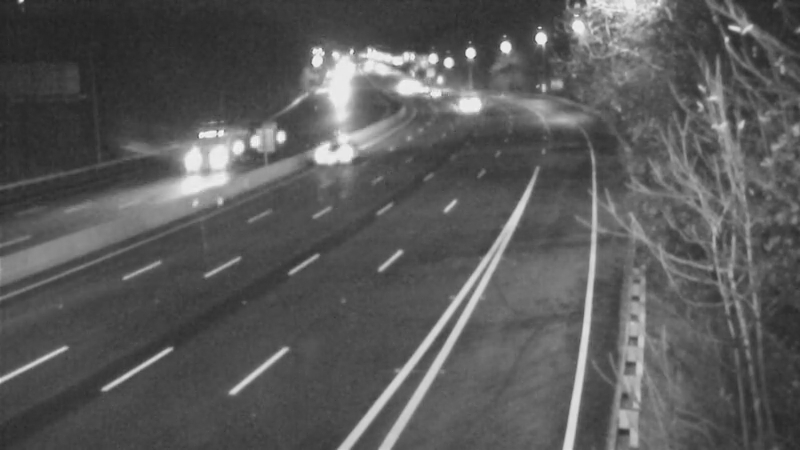vehicle: (295, 112, 375, 192), (167, 112, 247, 192), (396, 63, 446, 113), (416, 68, 466, 118), (438, 79, 488, 129)
